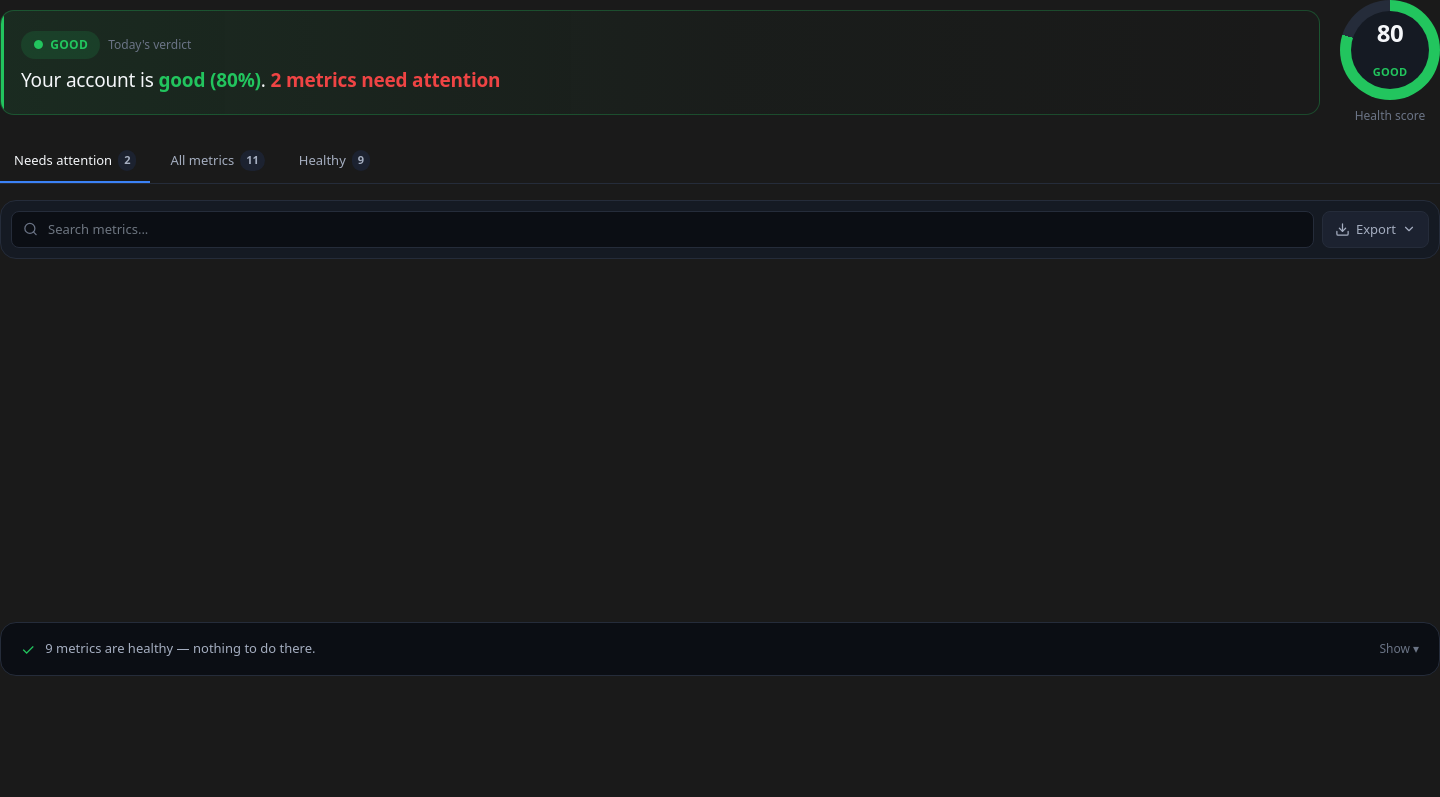
Test: Account Health page - unstable statuses › marks metrics with no report as "no data yet", not healthy
Step 1. Click the text "9 metrics are healthy — nothing to do there." → (180, 648), box [45, 639, 316, 657]
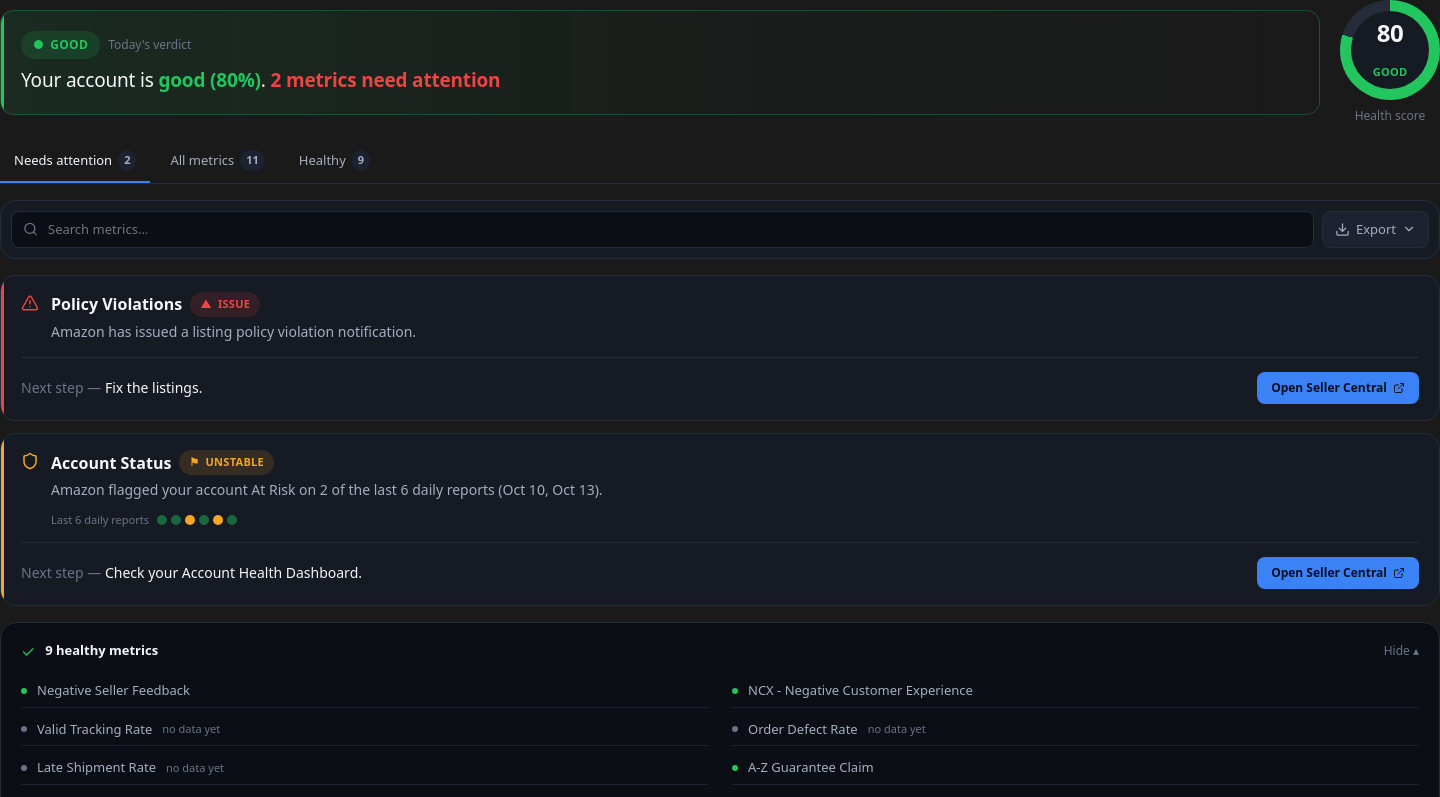
Expected: the text "no data yet" next to "Valid Tracking Rate" is shown, [162, 721, 220, 736]
